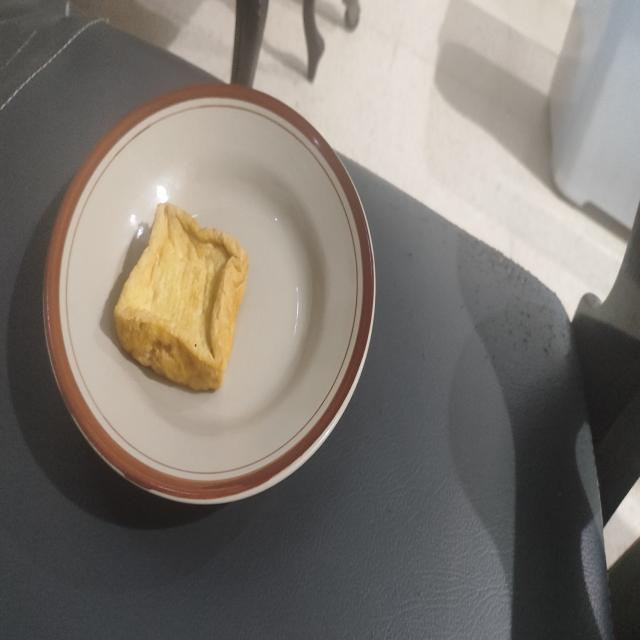tahu_goreng: (114, 204, 248, 390)
